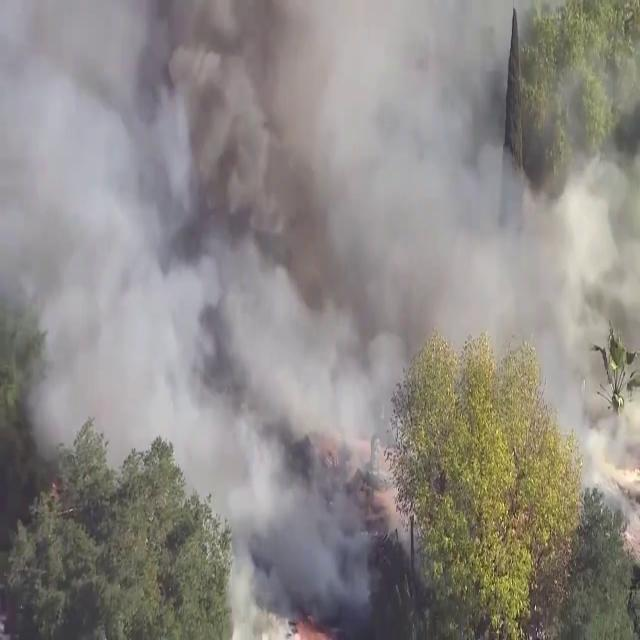Smoke: (1, 0, 637, 620)
